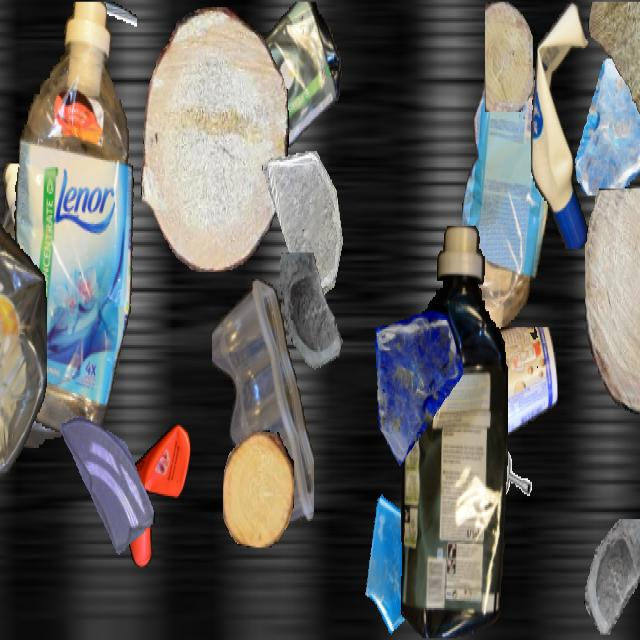glass: (60, 402, 154, 569), (369, 306, 463, 473), (361, 478, 451, 638), (262, 151, 346, 301), (275, 253, 353, 391), (572, 58, 640, 194), (583, 519, 640, 633)
metal: (74, 2, 136, 112), (490, 448, 538, 533)
plastic: (0, 2, 136, 446), (400, 226, 508, 638), (0, 164, 123, 448), (187, 2, 343, 183), (462, 62, 548, 372), (212, 279, 314, 532), (0, 117, 46, 491), (531, 2, 595, 247), (458, 327, 558, 452), (117, 425, 191, 567)
wood: (140, 7, 288, 270), (585, 187, 640, 414), (588, 2, 640, 194), (223, 430, 293, 548), (485, 2, 533, 112)
